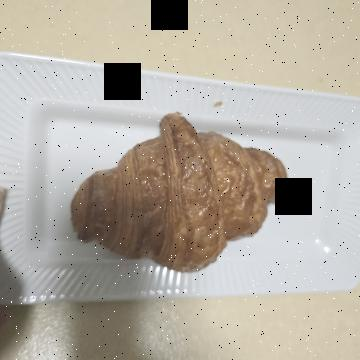croissant: (109, 68, 295, 303)
